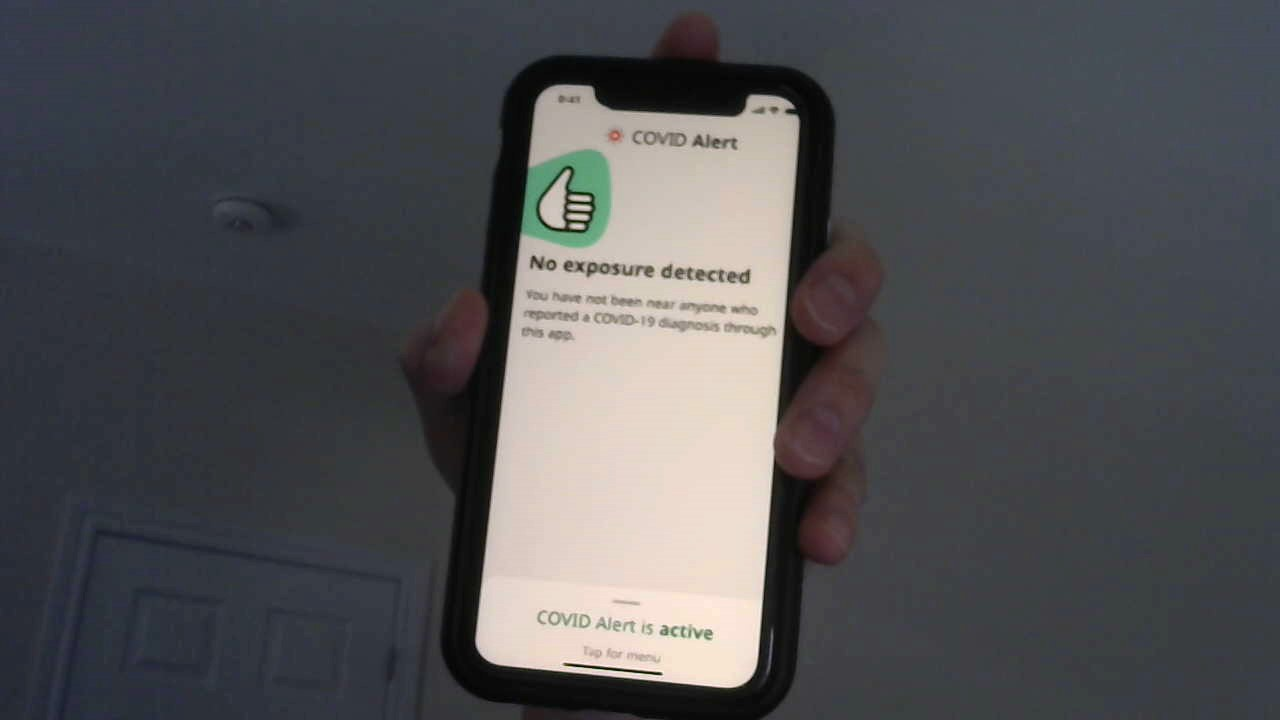Safe: (517, 136, 775, 294)
